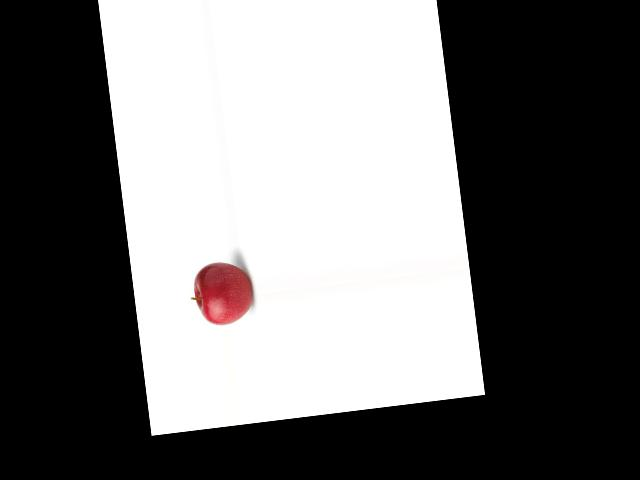apple: (185, 256, 257, 329)
